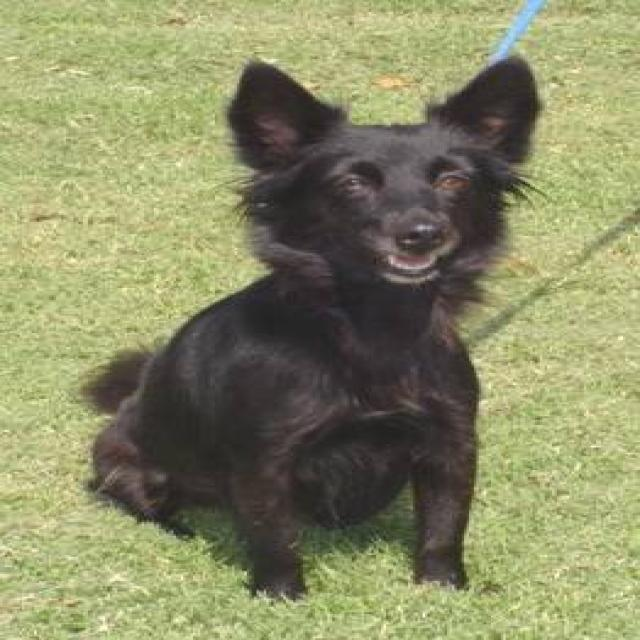adult_dog: (85, 53, 546, 605)
